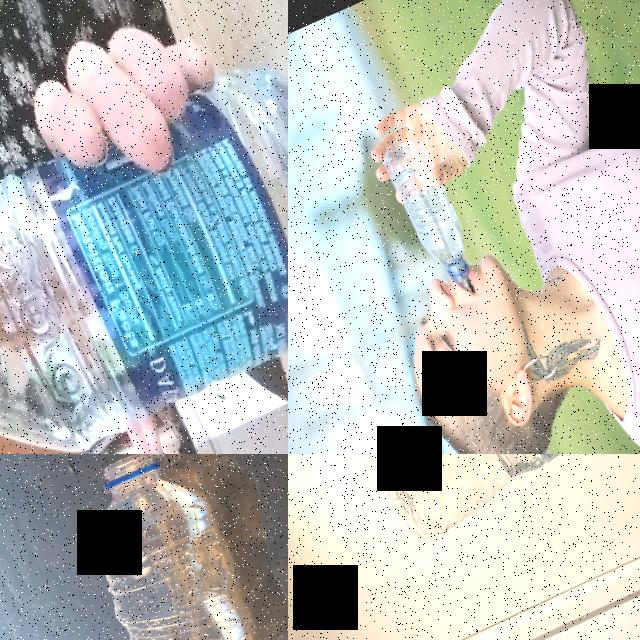bottle: (0, 42, 288, 454), (47, 454, 283, 640), (357, 454, 638, 550), (372, 116, 494, 307)
